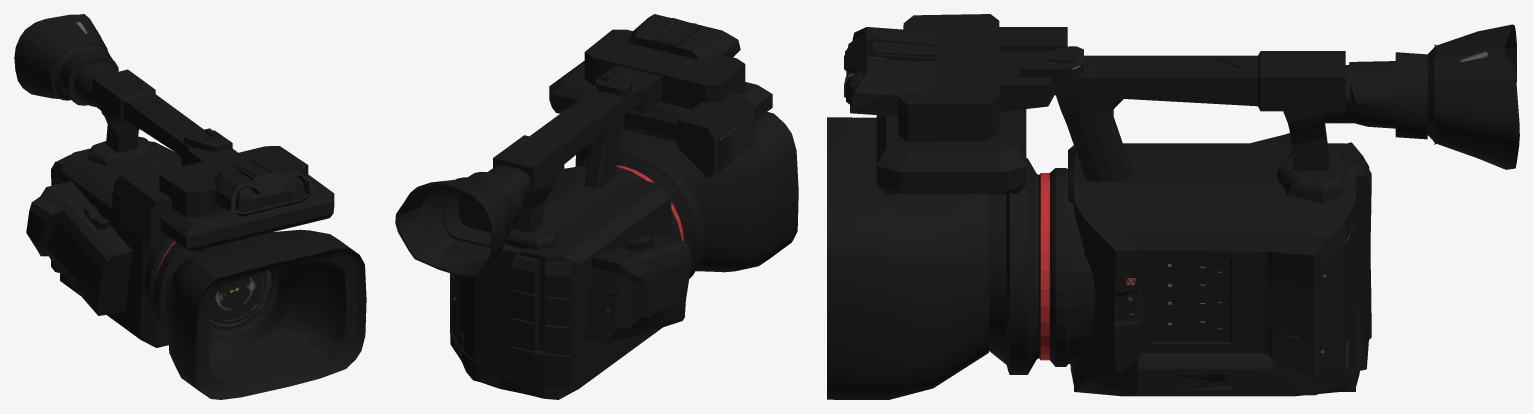
The picture shows the model from 3 angles, left to right: view 1: azimuth 30°, elevation 25°; view 2: azimuth 150°, elevation 25°; view 3: azimuth 270°, elevation 25°; orthographic projection. The views are drawn at different scales.
Parts seen in each view (by area): view 1: reds.003; view 2: reds.003; view 3: reds.003.
Part boxes in pixels (x1,y1,x2,y2): reds.003: (14, 14, 366, 399); reds.003: (395, 14, 798, 399); reds.003: (827, 14, 1519, 399).
Bounding box in the file's own units: 239 × 267 × 504.
1 material, 1 textured.
